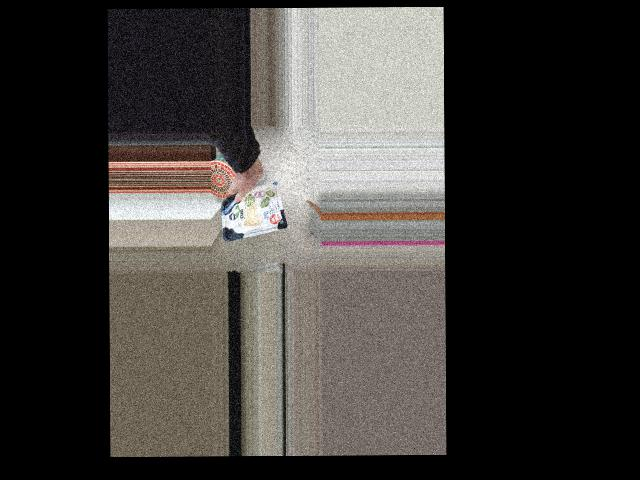cheese: (216, 187, 288, 236)
